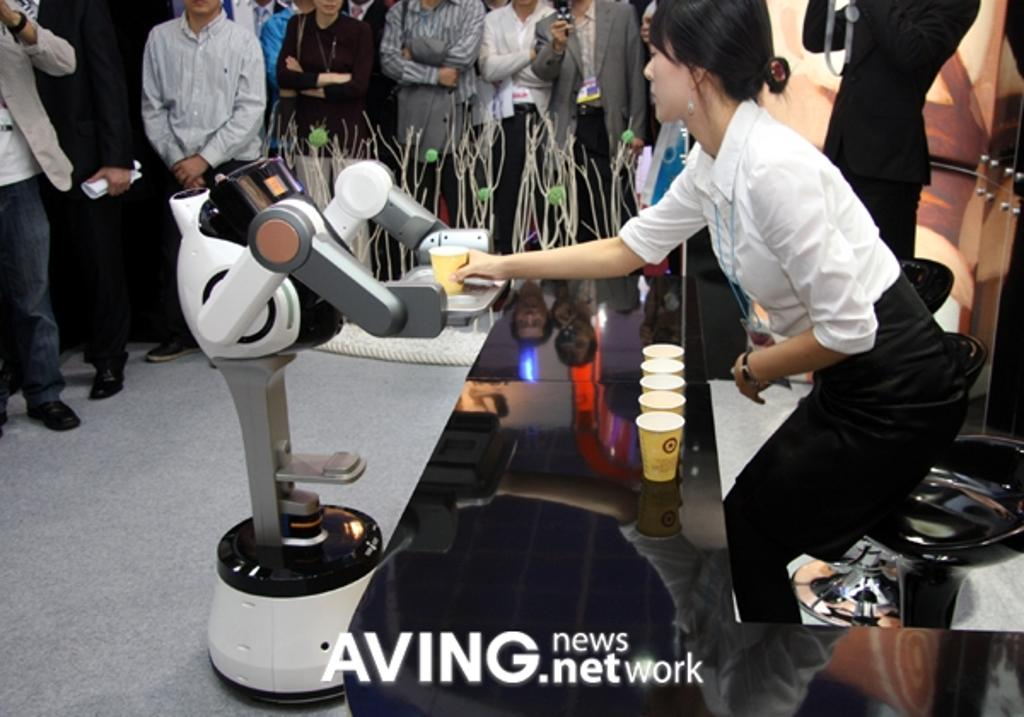face: (642, 6, 702, 122)
